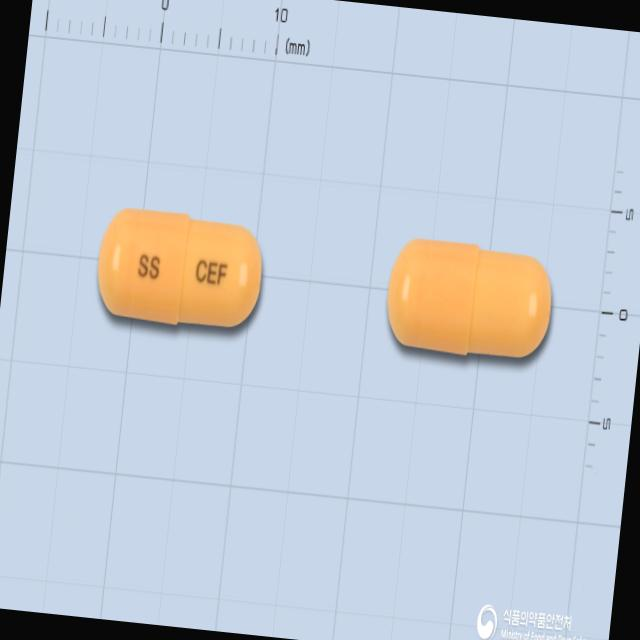Cefixime Cap- Samsung: (90, 198, 274, 344)
